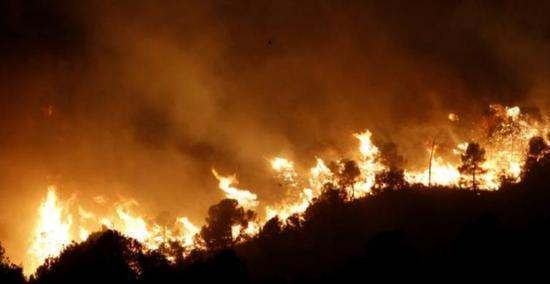fire: (218, 127, 541, 232), (25, 177, 217, 275)
